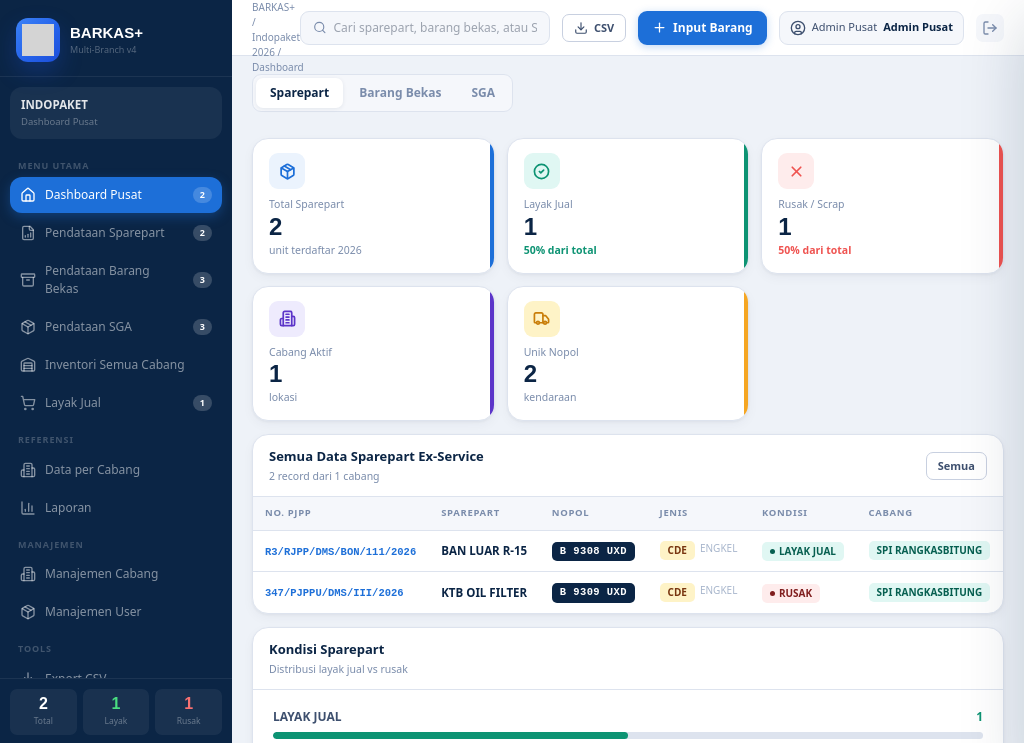
Scenario: BarkasApp v3 UI › shows duplicate TLS error toast when SGA create is rejected
Step 1. Click the button "Input Barang" → (702, 28), box 638,10 -> 767,44
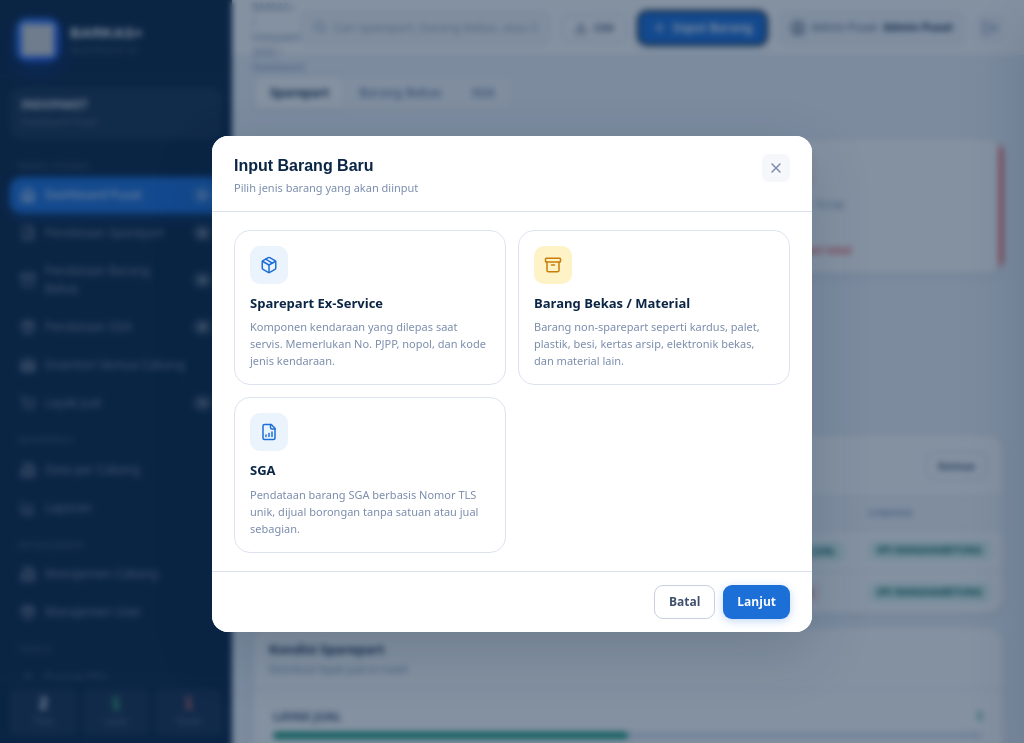
Step 2. Click the text "SGA" → (263, 470), box 250,461 -> 276,479
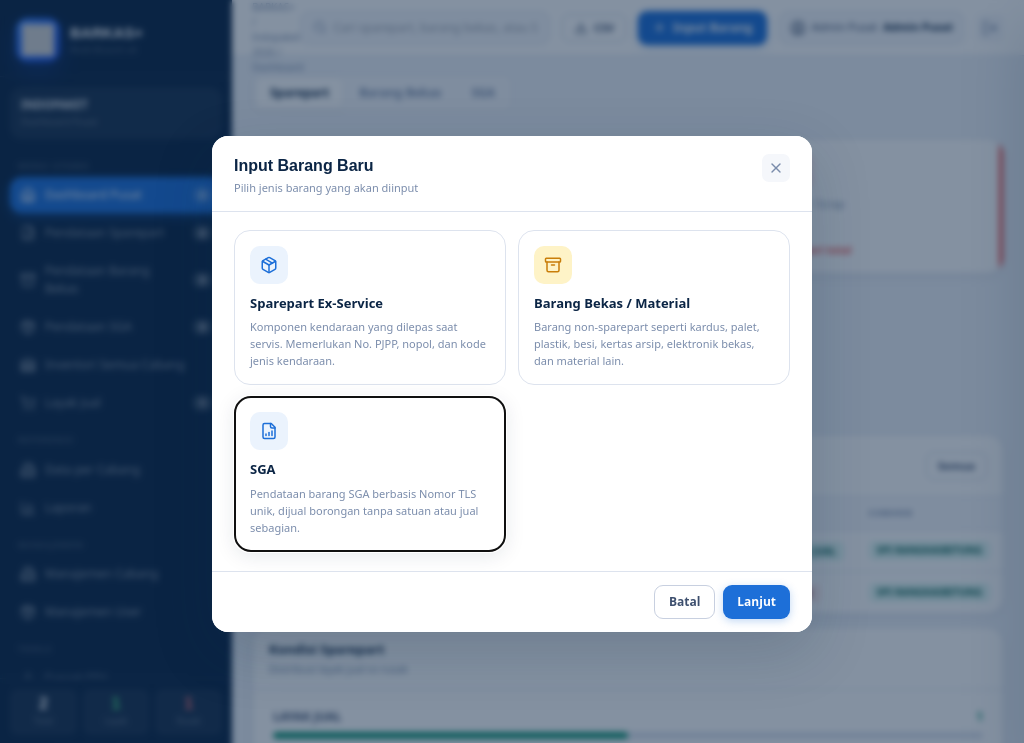
Step 3. Click the button "Lanjut" → (757, 602), box 723,585 -> 790,619
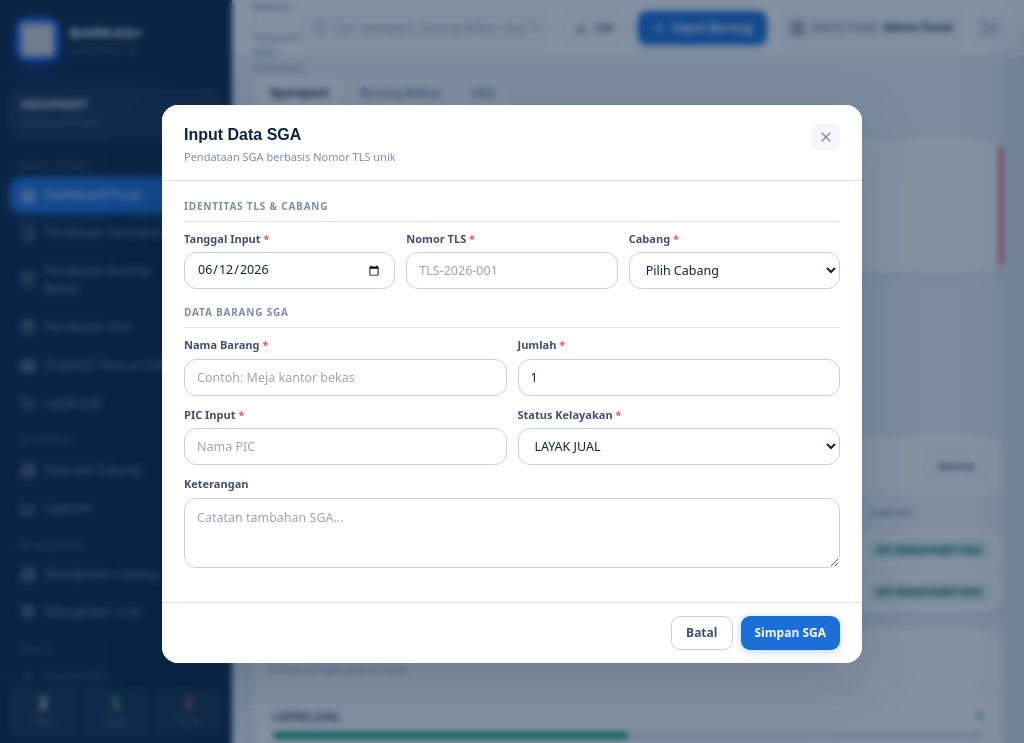
Step 4. Type "tls-2026-001" into the field with placeholder "TLS-2026-001" → (512, 271), box 406,252 -> 618,289
Step 5. Select "Sirclo" in the 1st dropdown → (734, 271), box 629,252 -> 840,289
Step 6. Type "Meja kantor bekas" into the field with placeholder "Contoh: Meja kantor bekas" → (345, 377), box 184,359 -> 506,396
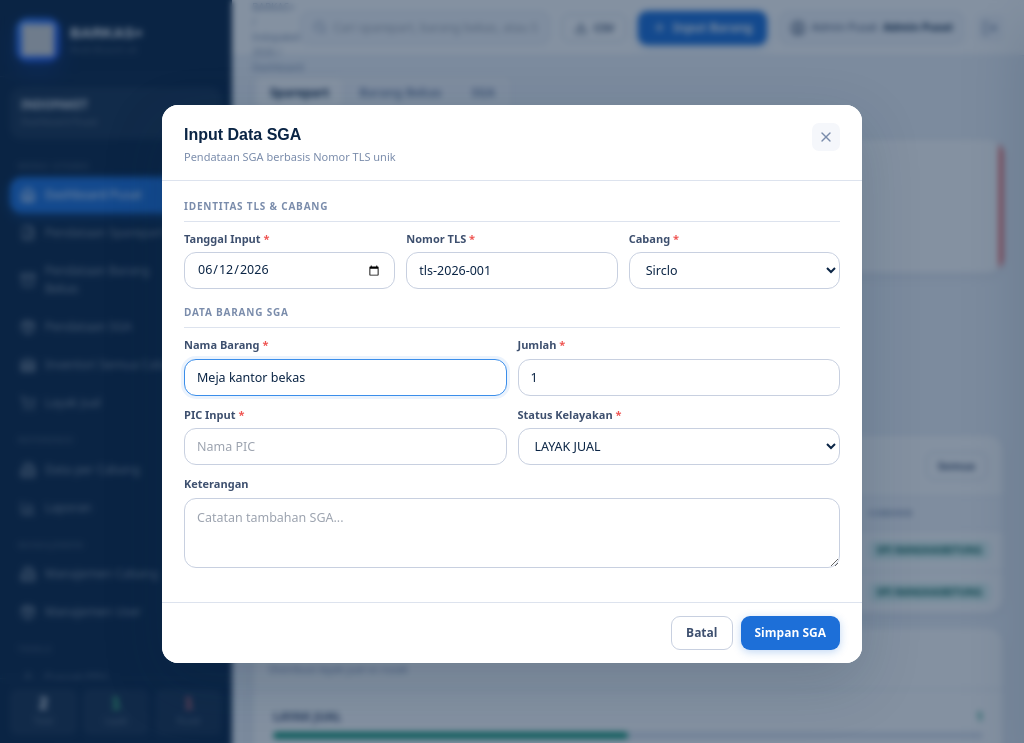
Step 7. Type "Ardi" into the field with placeholder "Nama PIC" → (345, 447), box 184,428 -> 506,465
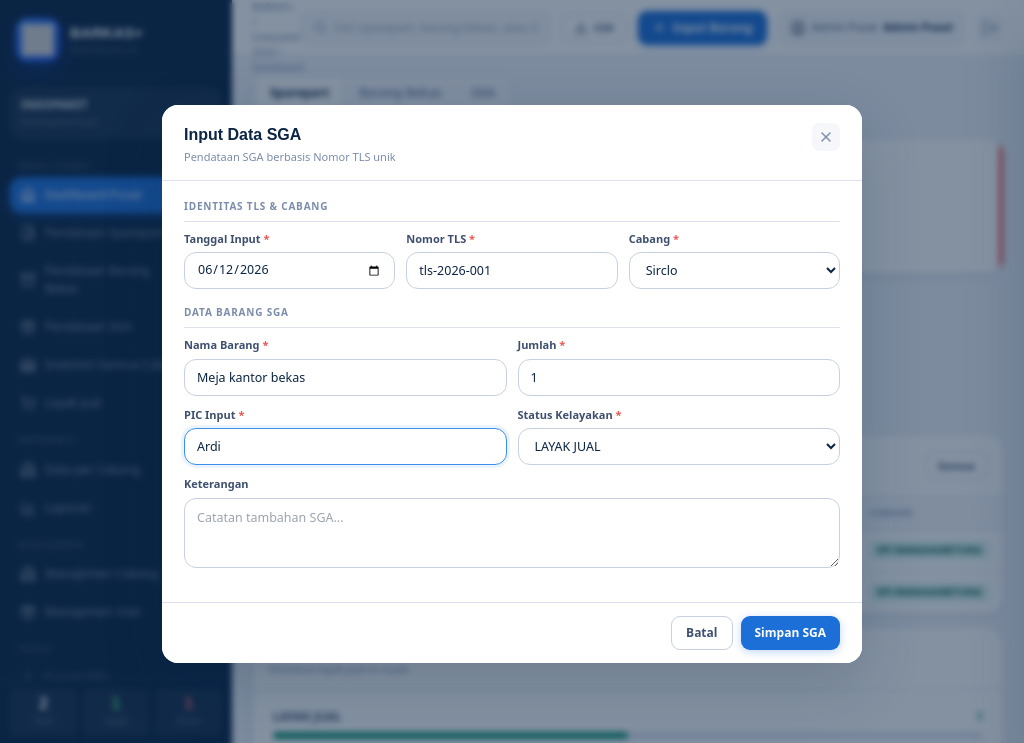
Step 8. Click the button "Simpan SGA" → (790, 633), box 740,616 -> 840,650
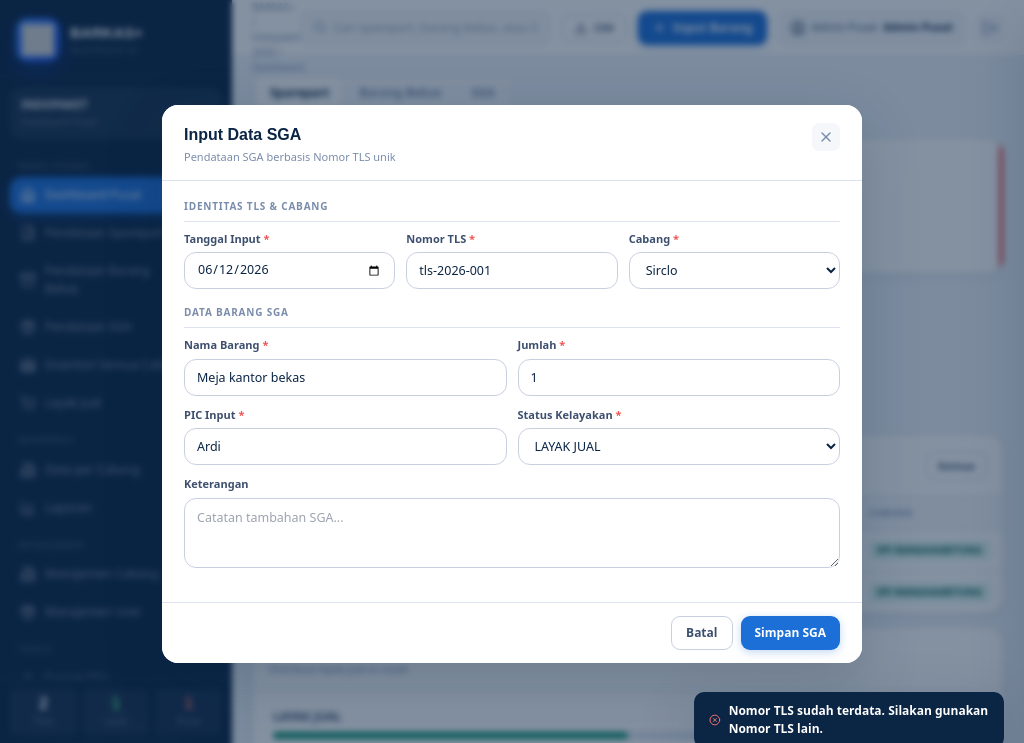
Expected: the text "Nomor TLS sudah terdata. Silakan gunakan Nomor TLS lain." is shown, 729,702 -> 989,738
